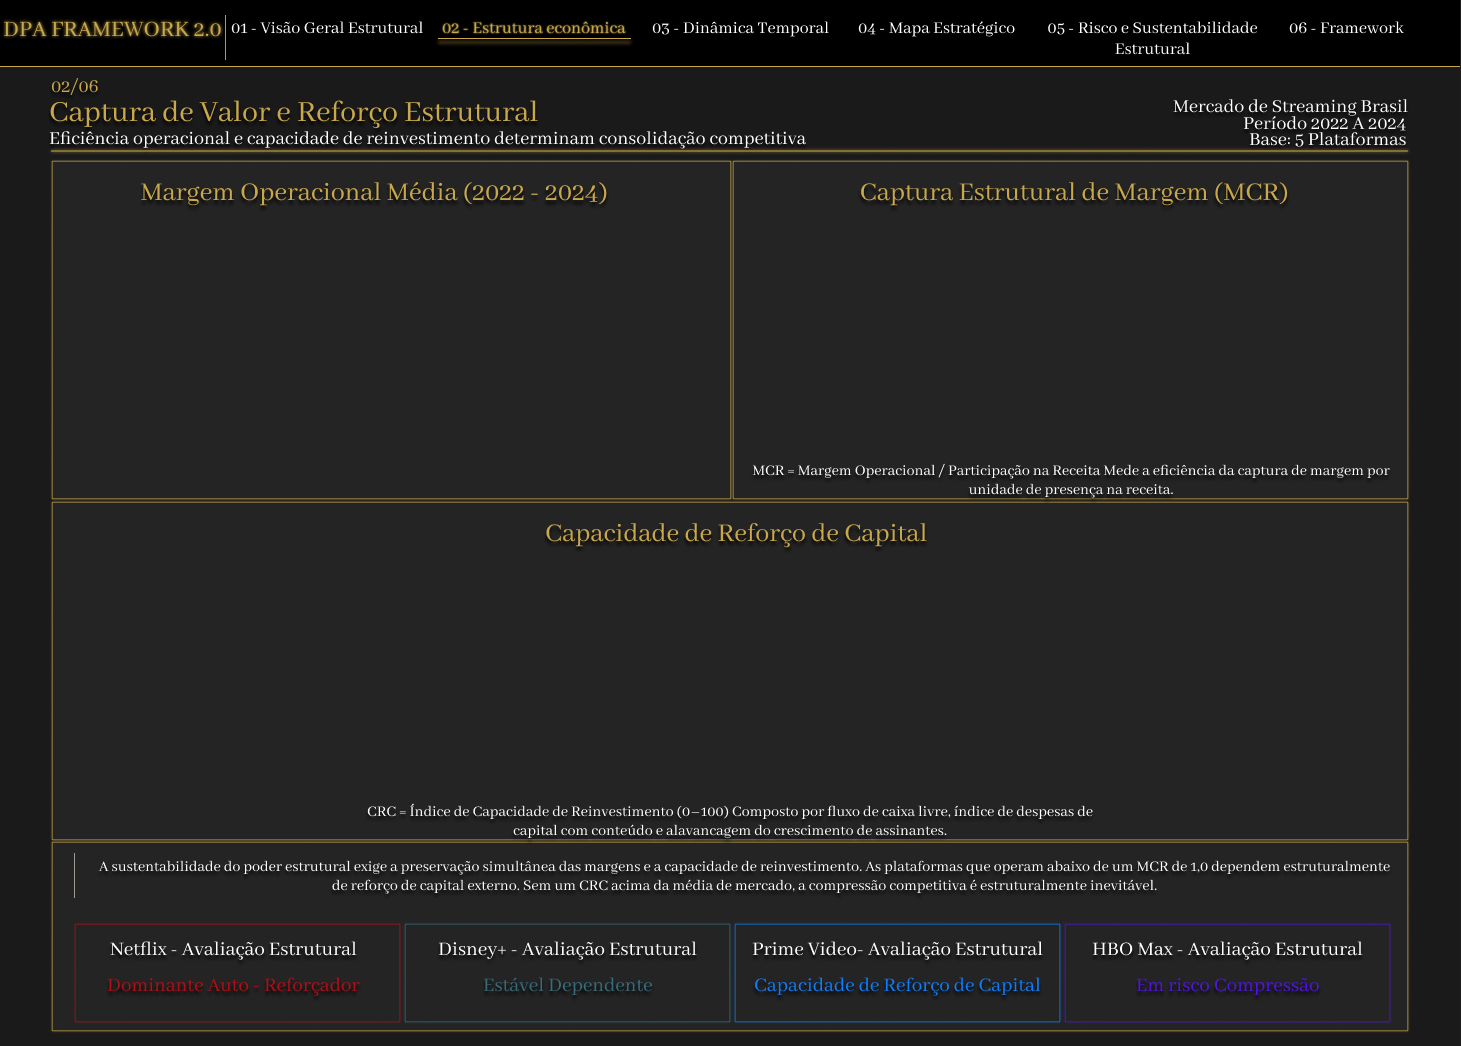

The page's visual inventory and layout, read from the dashboard file:
{"tool":"powerbi","page":{"name":"ESTRUTURA ECONÔMICA","canvas":[1460,1046],"ordinal":1},"visuals":[{"type":"columnChart","fields":{"Category":["Fato_Stream_PTBR.Empresa"],"Y":["Fato_Stream_PTBR.Margem Média"]},"box":[58.7,191.7,674.3,302.6],"z":0},{"type":"barChart","fields":{"Category":["Fato_Stream_PTBR.Empresa"],"Y":["Fato_Stream_PTBR.MCR"]},"box":[733,182.6,675.6,276.5],"z":1000},{"type":"columnChart","fields":{"Category":["Fato_Stream_PTBR.Empresa"],"Y":["Fato_Stream_PTBR.CRC"]},"box":[56.1,520.4,1352.5,284.3],"z":2000},{"type":"pageNavigator","box":[227.8,11.1,1232.2,45.6],"z":2001}]}

Visuals, with their boxes on the page's 1460x1046 design canvas (x1, y1, x2, y2). These are canvas units, not pixel positions in the 1461x1046 screenshot, which may show the page scaled, cropped or inside an application window:
columnChart - Fato_Stream_PTBR.Empresa x Fato_Stream_PTBR.Margem Média: 59/192/733/494
barChart - Fato_Stream_PTBR.Empresa x Fato_Stream_PTBR.MCR: 733/183/1409/459
columnChart - Fato_Stream_PTBR.Empresa x Fato_Stream_PTBR.CRC: 56/520/1409/805
pageNavigator: 228/11/1460/57
